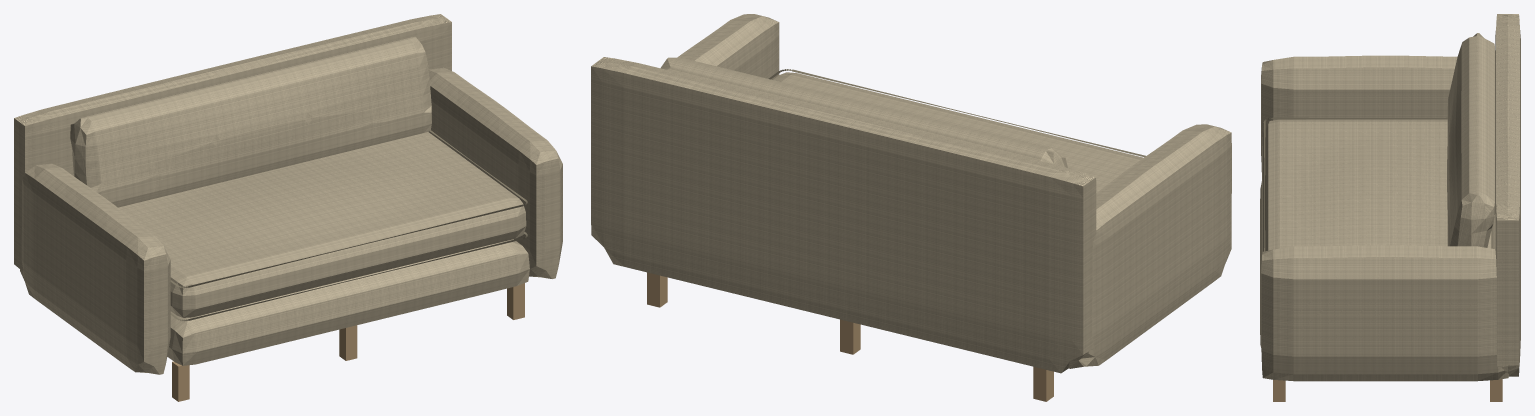
Rendered from HIN-SOF-2-seat.glb.
3 views of the same model, side by side, from view 1: azimuth 30°, elevation 25°; view 2: azimuth 150°, elevation 25°; view 3: azimuth 270°, elevation 25° (orthographic). The views are drawn at different scales.
Visible parts, largest first — view 1: seat:fabric:eyJwcmVzZXQiOiJsaW5lbiIsIndhcnAiOiJvYXQiLCJ3ZWZ0, inside-back:fabric:eyJwcmVzZXQiOiJsaW5lbiIsIndhcnAiOiJvYXQiL, arm-pad-l:fabric:eyJwcmVzZXQiOiJsaW5lbiIsIndhcnAiOiJvYXQiLCJ, deck:fabric:eyJwcmVzZXQiOiJsaW5lbiIsIndhcnAiOiJvYXQiLCJ3ZWZ0, arm-pad-r:fabric:eyJwcmVzZXQiOiJsaW5lbiIsIndhcnAiOiJvYXQiLCJ, back-pad:fabric:eyJwcmVzZXQiOiJsaW5lbiIsIndhcnAiOiJvYXQiLCJ3, seat:piping:pbr, leg-fl:pbr, leg-cf:pbr, leg-fr:pbr; view 2: back-pad:fabric:eyJwcmVzZXQiOiJsaW5lbiIsIndhcnAiOiJvYXQiLCJ3, arm-pad-l:fabric:eyJwcmVzZXQiOiJsaW5lbiIsIndhcnAiOiJvYXQiLCJ, inside-back:fabric:eyJwcmVzZXQiOiJsaW5lbiIsIndhcnAiOiJvYXQiL, seat:fabric:eyJwcmVzZXQiOiJsaW5lbiIsIndhcnAiOiJvYXQiLCJ3ZWZ0, arm-pad-r:fabric:eyJwcmVzZXQiOiJsaW5lbiIsIndhcnAiOiJvYXQiLCJ, seat:piping:pbr, leg-cb:pbr, leg-bl:pbr, leg-br:pbr; view 3: arm-pad-r:fabric:eyJwcmVzZXQiOiJsaW5lbiIsIndhcnAiOiJvYXQiLCJ, seat:fabric:eyJwcmVzZXQiOiJsaW5lbiIsIndhcnAiOiJvYXQiLCJ3ZWZ0, arm-pad-l:fabric:eyJwcmVzZXQiOiJsaW5lbiIsIndhcnAiOiJvYXQiLCJ, inside-back:fabric:eyJwcmVzZXQiOiJsaW5lbiIsIndhcnAiOiJvYXQiL, back-pad:fabric:eyJwcmVzZXQiOiJsaW5lbiIsIndhcnAiOiJvYXQiLCJ3, seat:piping:pbr, deck:fabric:eyJwcmVzZXQiOiJsaW5lbiIsIndhcnAiOiJvYXQiLCJ3ZWZ0, leg-br:pbr, leg-fr:pbr.
Boxes of the visible parts, x1,y1,x2,y2 form: seat:fabric:eyJwcmVzZXQiOiJsaW5lbiIsIndhcnAiOiJvYXQiLCJ3ZWZ0: [118, 132, 526, 317]; inside-back:fabric:eyJwcmVzZXQiOiJsaW5lbiIsIndhcnAiOiJvYXQiL: [70, 36, 431, 207]; arm-pad-l:fabric:eyJwcmVzZXQiOiJsaW5lbiIsIndhcnAiOiJvYXQiLCJ: [20, 163, 170, 374]; deck:fabric:eyJwcmVzZXQiOiJsaW5lbiIsIndhcnAiOiJvYXQiLCJ3ZWZ0: [167, 239, 529, 365]; arm-pad-r:fabric:eyJwcmVzZXQiOiJsaW5lbiIsIndhcnAiOiJvYXQiLCJ: [428, 67, 562, 278]; back-pad:fabric:eyJwcmVzZXQiOiJsaW5lbiIsIndhcnAiOiJvYXQiLCJ3: [14, 14, 451, 271]; seat:piping:pbr: [170, 130, 527, 321]; leg-fl:pbr: [172, 361, 189, 401]; leg-cf:pbr: [339, 325, 357, 360]; leg-fr:pbr: [507, 283, 524, 319]; back-pad:fabric:eyJwcmVzZXQiOiJsaW5lbiIsIndhcnAiOiJvYXQiLCJ3: [591, 57, 1096, 373]; arm-pad-l:fabric:eyJwcmVzZXQiOiJsaW5lbiIsIndhcnAiOiJvYXQiLCJ: [1068, 124, 1231, 368]; inside-back:fabric:eyJwcmVzZXQiOiJsaW5lbiIsIndhcnAiOiJvYXQiL: [660, 57, 1067, 167]; seat:fabric:eyJwcmVzZXQiOiJsaW5lbiIsIndhcnAiOiJvYXQiLCJ3ZWZ0: [773, 72, 1143, 192]; arm-pad-r:fabric:eyJwcmVzZXQiOiJsaW5lbiIsIndhcnAiOiJvYXQiLCJ: [677, 14, 779, 79]; seat:piping:pbr: [769, 69, 1145, 157]; leg-cb:pbr: [840, 319, 860, 354]; leg-bl:pbr: [1033, 366, 1053, 401]; leg-br:pbr: [647, 272, 667, 307]; arm-pad-r:fabric:eyJwcmVzZXQiOiJsaW5lbiIsIndhcnAiOiJvYXQiLCJ: [1261, 245, 1508, 381]; seat:fabric:eyJwcmVzZXQiOiJsaW5lbiIsIndhcnAiOiJvYXQiLCJ3ZWZ0: [1262, 119, 1494, 252]; arm-pad-l:fabric:eyJwcmVzZXQiOiJsaW5lbiIsIndhcnAiOiJvYXQiLCJ: [1261, 55, 1457, 179]; inside-back:fabric:eyJwcmVzZXQiOiJsaW5lbiIsIndhcnAiOiJvYXQiL: [1447, 33, 1495, 247]; back-pad:fabric:eyJwcmVzZXQiOiJsaW5lbiIsIndhcnAiOiJvYXQiLCJ3: [1495, 14, 1520, 376]; seat:piping:pbr: [1263, 117, 1492, 251]; deck:fabric:eyJwcmVzZXQiOiJsaW5lbiIsIndhcnAiOiJvYXQiLCJ3ZWZ0: [1260, 180, 1495, 347]; leg-br:pbr: [1490, 379, 1502, 401]; leg-fr:pbr: [1273, 380, 1285, 401].
Size of the model in its own units: 1.7 by 0.78 by 0.9.
13 materials, 6 textured.
